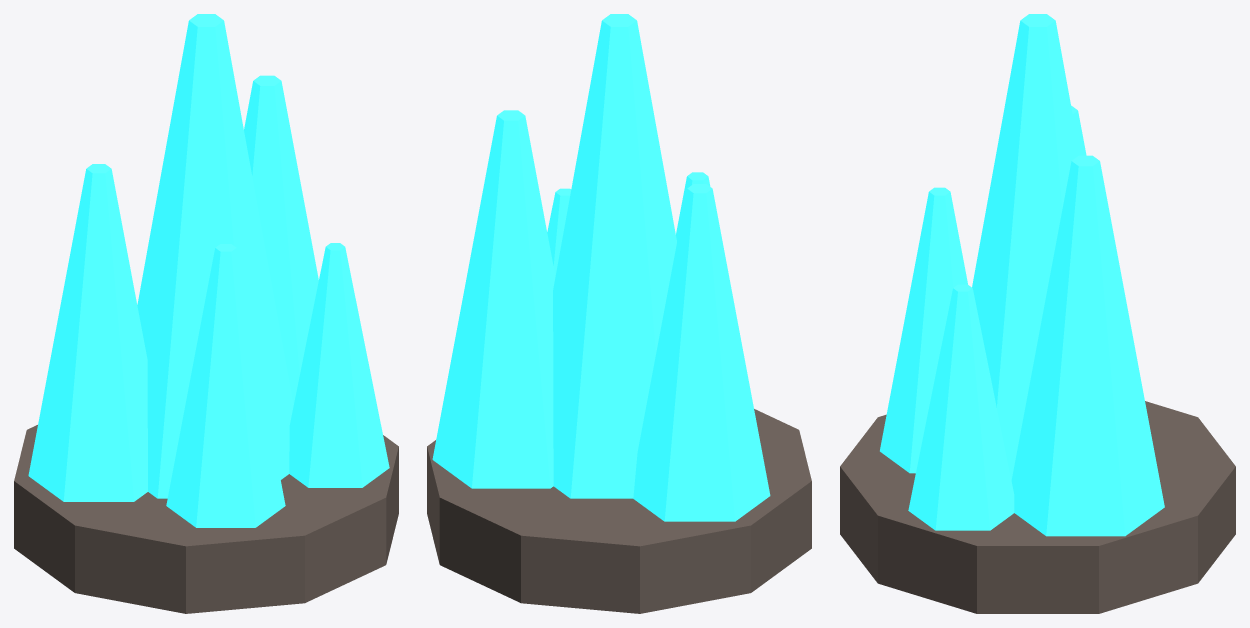
Rendered from time_crystal.glb.
The picture shows the model from 3 angles, left to right: view 1: azimuth 30°, elevation 25°; view 2: azimuth 150°, elevation 25°; view 3: azimuth 270°, elevation 25°; orthographic projection.
Parts seen in each view (by area): view 1: CrystalBase, Crystal0, Crystal1, Crystal3, Crystal4, Crystal2; view 2: Crystal0, CrystalBase, Crystal2, Crystal1, Crystal4; view 3: CrystalBase, Crystal2, Crystal0, Crystal4, Crystal3.
Part boxes in pixels (x1,y1,x2,y2): CrystalBase: (14,425,398,613); Crystal0: (137,14,293,498); Crystal1: (28,164,147,501); Crystal3: (166,244,285,527); Crystal4: (289,243,389,487); Crystal2: (244,75,318,404); Crystal0: (553,14,676,498); CrystalBase: (427,409,811,613); Crystal2: (432,110,555,488); Crystal1: (633,184,770,521); Crystal4: (547,188,571,276); CrystalBase: (840,401,1235,613); Crystal2: (1011,155,1164,536); Crystal0: (972,14,1079,480); Crystal4: (908,284,1014,530); Crystal3: (880,187,967,473).
Bounding box in the file's own units: 2.76 × 4.15 × 2.9.
